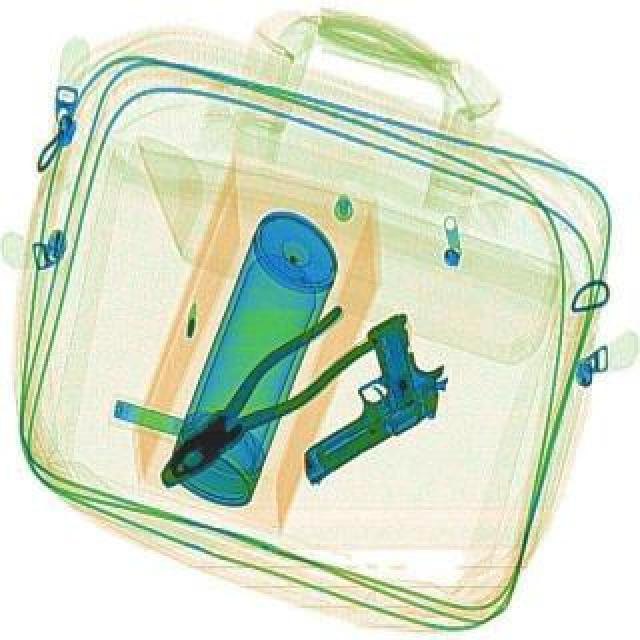gun: (250, 306, 468, 486)
wrench: (138, 294, 378, 508)
